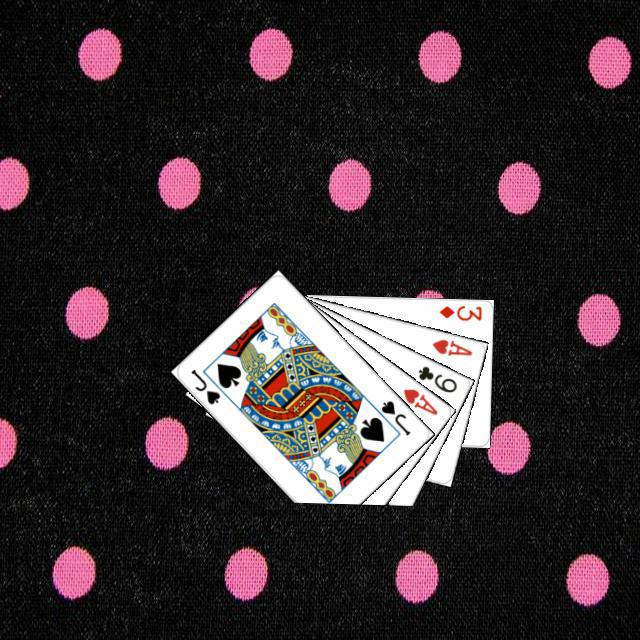3d: (434, 300, 483, 322)
9c: (413, 361, 459, 394)
Ah: (398, 384, 440, 417), (427, 334, 474, 357)
Js: (186, 364, 222, 406), (376, 396, 412, 437)
